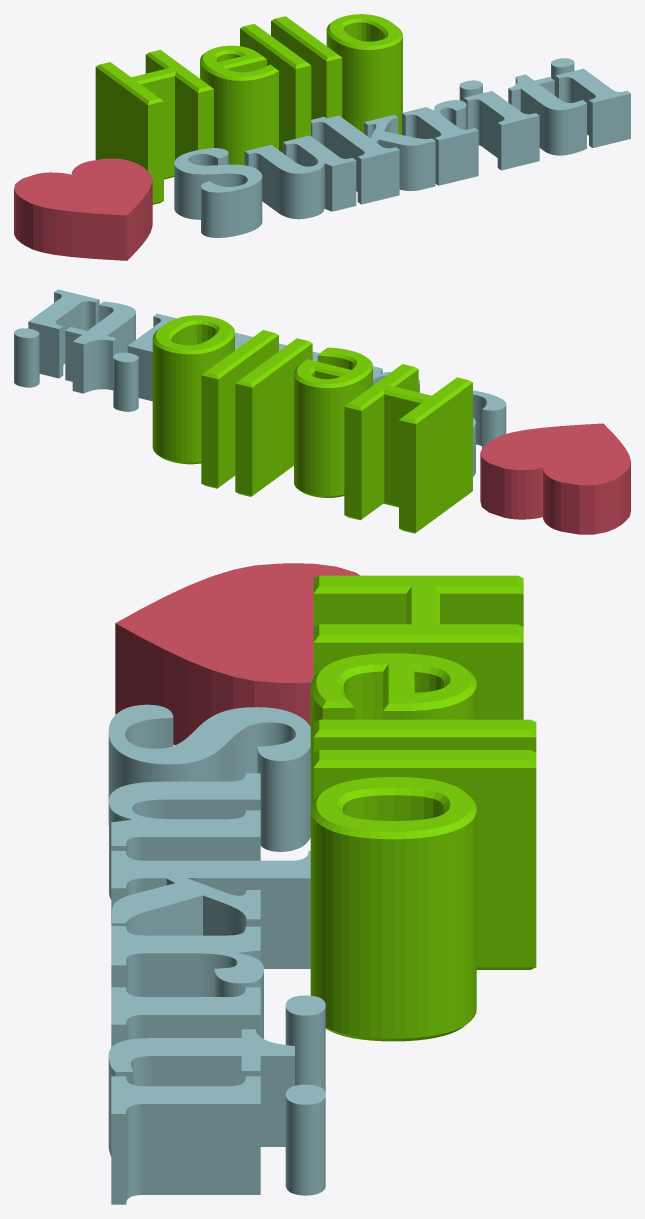
Rendered from c7XYOMB03BW.glb.
3 views of the same model, one above another, from view 1: azimuth 30°, elevation 25°; view 2: azimuth 150°, elevation 25°; view 3: azimuth 270°, elevation 25° (orthographic). The views are drawn at different scales.
Parts seen in each view (by area): view 1: Mesh_Mesh_head_geo.001_lambert2SG.001; view 2: Mesh_Mesh_head_geo.001_lambert2SG.001; view 3: Mesh_Mesh_head_geo.001_lambert2SG.001.
Part boxes in pixels (<box>): Mesh_Mesh_head_geo.001_lambert2SG.001: <box>14,14,630,260</box>; Mesh_Mesh_head_geo.001_lambert2SG.001: <box>14,289,630,534</box>; Mesh_Mesh_head_geo.001_lambert2SG.001: <box>108,563,536,1204</box>.
Size of the model in its own units: 130 by 23.07 by 42.66.
